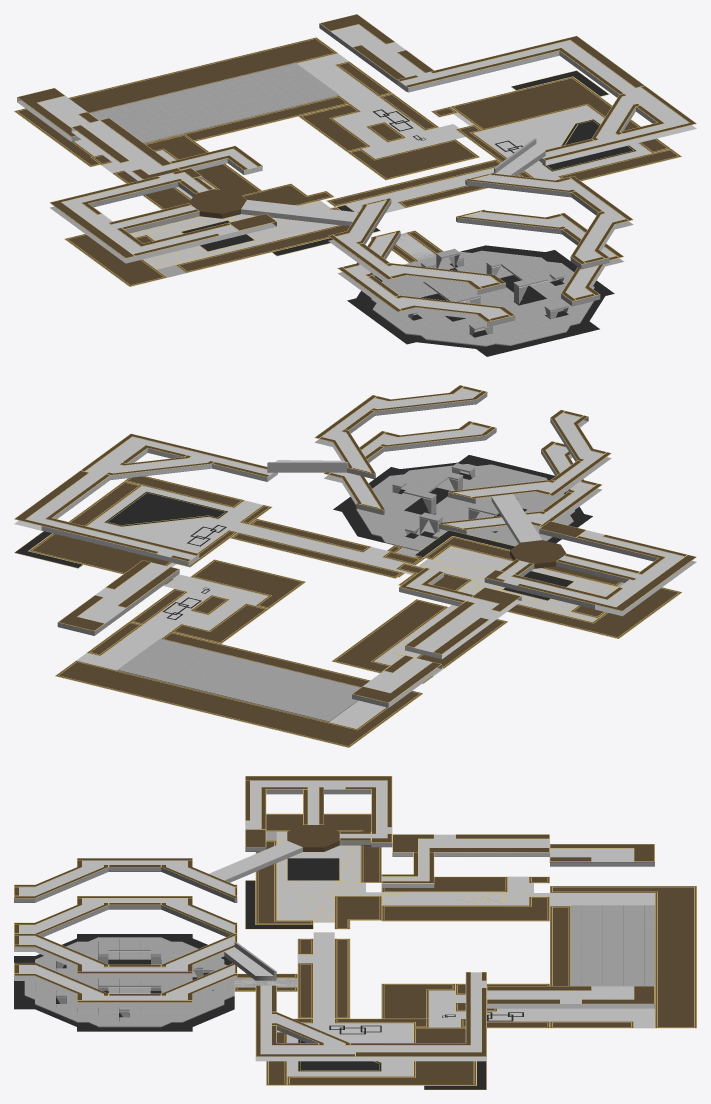
The model's file is lederniersinonjemeurs.fbx.
3 renders of one model, top to bottom at view 1: azimuth 30°, elevation 25°; view 2: azimuth 150°, elevation 25°; view 3: azimuth 270°, elevation 25°, orthographic. The views are drawn at different scales.
Visible parts, largest first — view 1: A_zone_03_dancefloor_plastic_, A_zone_01_dancefloor_wood_01_, A_zone_3_arena_bridge_white_marble_, A_zone_02_far_left_zone_wood_01_, A_zone_02_far_left_zone_bridge_white_marble_, A_zone_3_arena_bridge_wood_01_, A_zone_3_arena_bridge_concrete_, A_zone_02_far_right_zone_bridge_wood_01_, A_zone_02_far_right_zone_bridge_white_marble_, A_zone_03_dancefloor_black_marble_, A_zone_02_far_left_zone_white_marble_, A_zone_02_left_zone_wood_01_ (+34 smaller); view 2: A_zone_03_dancefloor_plastic_, A_zone_01_dancefloor_wood_01_, A_zone_3_arena_bridge_white_marble_, A_zone_3_arena_bridge_wood_01_, A_zone_02_far_left_zone_wood_01_, A_zone_02_far_left_zone_bridge_white_marble_, A_zone_02_far_left_zone_white_marble_, A_zone_02_far_right_zone_bridge_wood_01_, A_zone_02_far_right_zone_bridge_white_marble_, A_zone_02_left_zone_wood_01_, A_zone_3_arena_bridge_concrete_, A_zone_02_far_right_zone_floor_white_marble_ (+37 smaller); view 3: A_zone_03_dancefloor_plastic_, A_zone_01_dancefloor_wood_01_, A_zone_3_arena_bridge_white_marble_, A_zone_3_arena_bridge_wood_01_, A_zone_3_arena_bridge_concrete_, A_zone_02_far_right_zone_floor_white_marble_, A_zone_02_far_left_zone_bridge_white_marble_, A_zone_02_far_right_zone_wood_01_, A_zone_02_far_left_zone_wood_01_, A_zone_02_far_right_zone_bridge_wood_01_, A_zone_02_far_right_zone_bridge_white_marble_, A_zone_3_arena_bridge_laiton_ (+40 smaller).
Boxes of the visible parts, left/top/right/bottom form: A_zone_03_dancefloor_plastic_: left=371, top=248, right=594, bottom=346; A_zone_01_dancefloor_wood_01_: left=18, top=39, right=388, bottom=165; A_zone_3_arena_bridge_white_marble_: left=336, top=175, right=625, bottom=318; A_zone_02_far_left_zone_wood_01_: left=435, top=78, right=677, bottom=179; A_zone_02_far_left_zone_bridge_white_marble_: left=400, top=40, right=688, bottom=175; A_zone_3_arena_bridge_wood_01_: left=329, top=173, right=632, bottom=321; A_zone_3_arena_bridge_concrete_: left=328, top=180, right=633, bottom=326; A_zone_02_far_right_zone_bridge_wood_01_: left=50, top=168, right=275, bottom=257; A_zone_02_far_right_zone_bridge_white_marble_: left=62, top=172, right=358, bottom=253; A_zone_03_dancefloor_black_marble_: left=347, top=245, right=614, bottom=356; A_zone_02_far_left_zone_white_marble_: left=454, top=105, right=651, bottom=180; A_zone_02_left_zone_wood_01_: left=302, top=95, right=475, bottom=178; A_zone_03_dancefloor_plastic_: left=356, top=463, right=574, bottom=551; A_zone_01_dancefloor_wood_01_: left=59, top=623, right=419, bottom=745; A_zone_3_arena_bridge_white_marble_: left=322, top=388, right=603, bottom=528; A_zone_3_arena_bridge_wood_01_: left=315, top=385, right=610, bottom=529; A_zone_02_far_left_zone_wood_01_: left=32, top=476, right=268, bottom=573; A_zone_02_far_left_zone_bridge_white_marble_: left=26, top=437, right=344, bottom=559; A_zone_02_far_left_zone_white_marble_: left=87, top=486, right=262, bottom=566; A_zone_02_far_right_zone_bridge_wood_01_: left=486, top=521, right=695, bottom=610; A_zone_02_far_right_zone_bridge_white_marble_: left=492, top=494, right=684, bottom=606; A_zone_02_left_zone_wood_01_: left=133, top=561, right=301, bottom=642; A_zone_3_arena_bridge_concrete_: left=315, top=392, right=611, bottom=534; A_zone_02_far_right_zone_floor_white_marble_: left=418, top=546, right=624, bottom=621; A_zone_03_dancefloor_plastic_: left=24, top=937, right=234, bottom=1027; A_zone_01_dancefloor_wood_01_: left=552, top=887, right=694, bottom=1026; A_zone_3_arena_bridge_white_marble_: left=19, top=860, right=234, bottom=1000; A_zone_3_arena_bridge_wood_01_: left=14, top=858, right=236, bottom=1002; A_zone_3_arena_bridge_concrete_: left=14, top=867, right=237, bottom=1007; A_zone_02_far_right_zone_floor_white_marble_: left=266, top=831, right=365, bottom=922; A_zone_02_far_left_zone_bridge_white_marble_: left=224, top=947, right=486, bottom=1054; A_zone_02_far_right_zone_wood_01_: left=258, top=815, right=379, bottom=927; A_zone_02_far_left_zone_wood_01_: left=269, top=1019, right=473, bottom=1084; A_zone_02_far_right_zone_bridge_wood_01_: left=245, top=776, right=391, bottom=851; A_zone_02_far_right_zone_bridge_white_marble_: left=209, top=780, right=392, bottom=880; A_zone_3_arena_bridge_laiton_: left=14, top=858, right=237, bottom=1002.
Bounding box in the file's own units: 12200 × 1711 × 13002.
